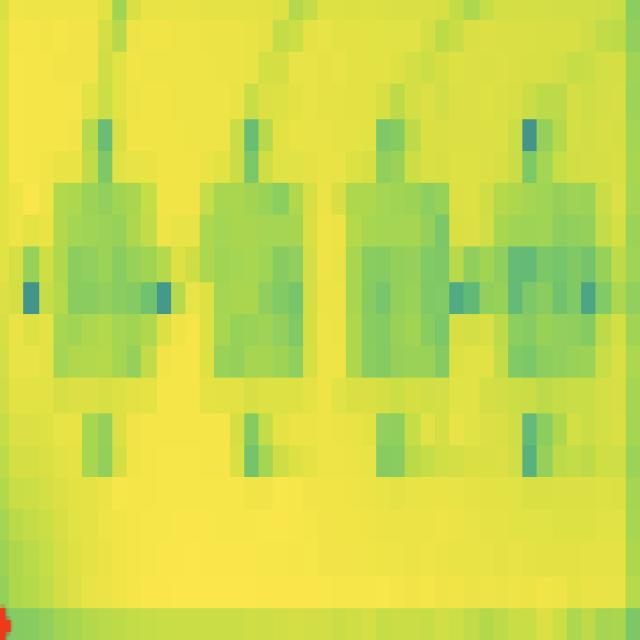Concrete: (334, 165, 456, 396)
Glass: (195, 156, 318, 407)
Metal: (488, 165, 603, 392)
Wood: (44, 156, 163, 405)
